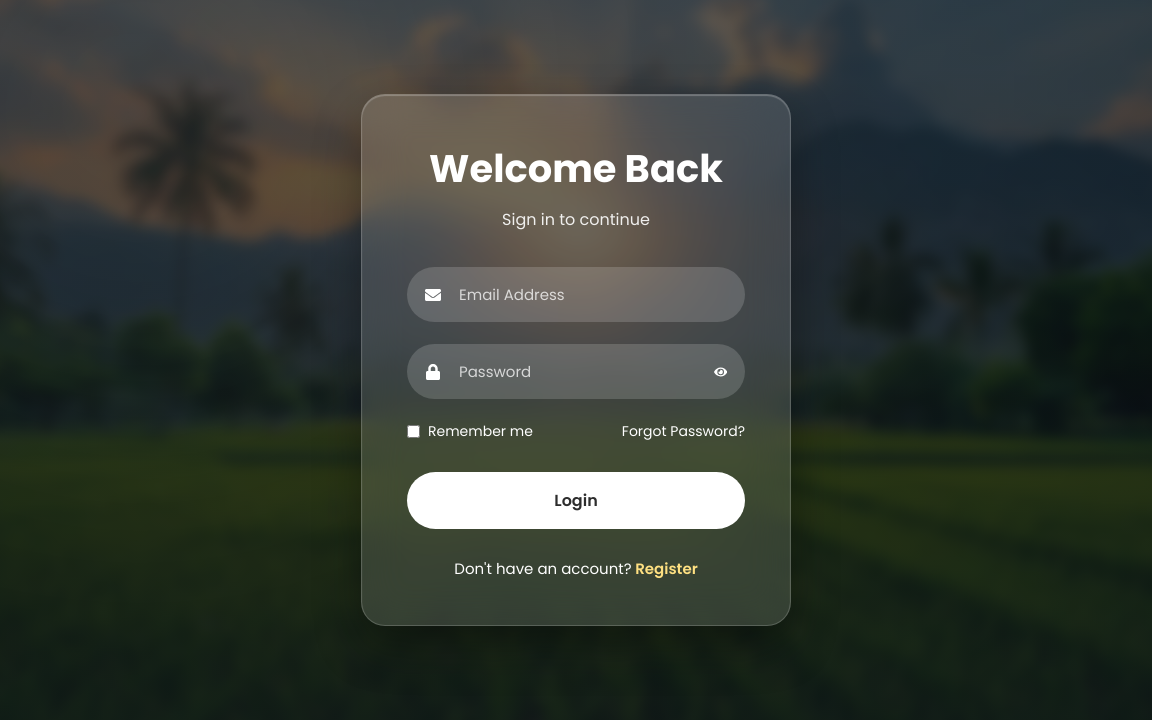
Test case: Login Component › shows loading state after clicking login
Type "test@gmail.com" into the field with placeholder "Email Address".
click(576, 294); type("test@gmail.com")  # box [407,267,745,322]
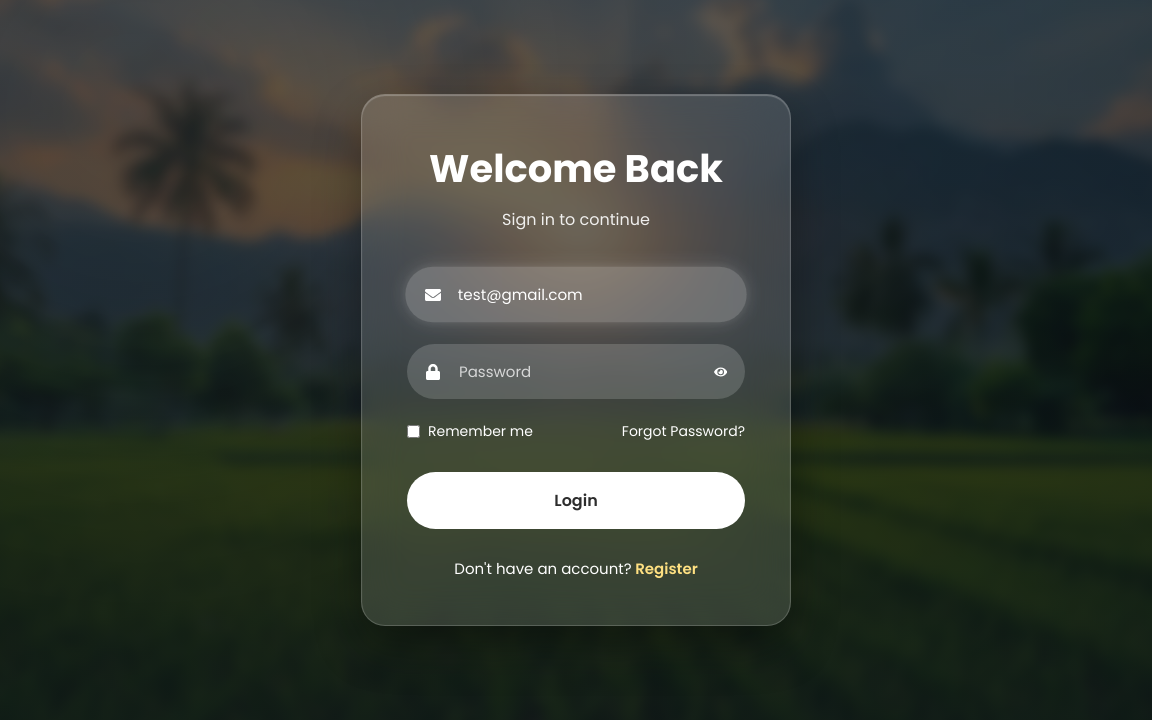
Type "123456" into the password field with placeholder "Password".
click(576, 372); type("123456")  # box [407,344,745,399]
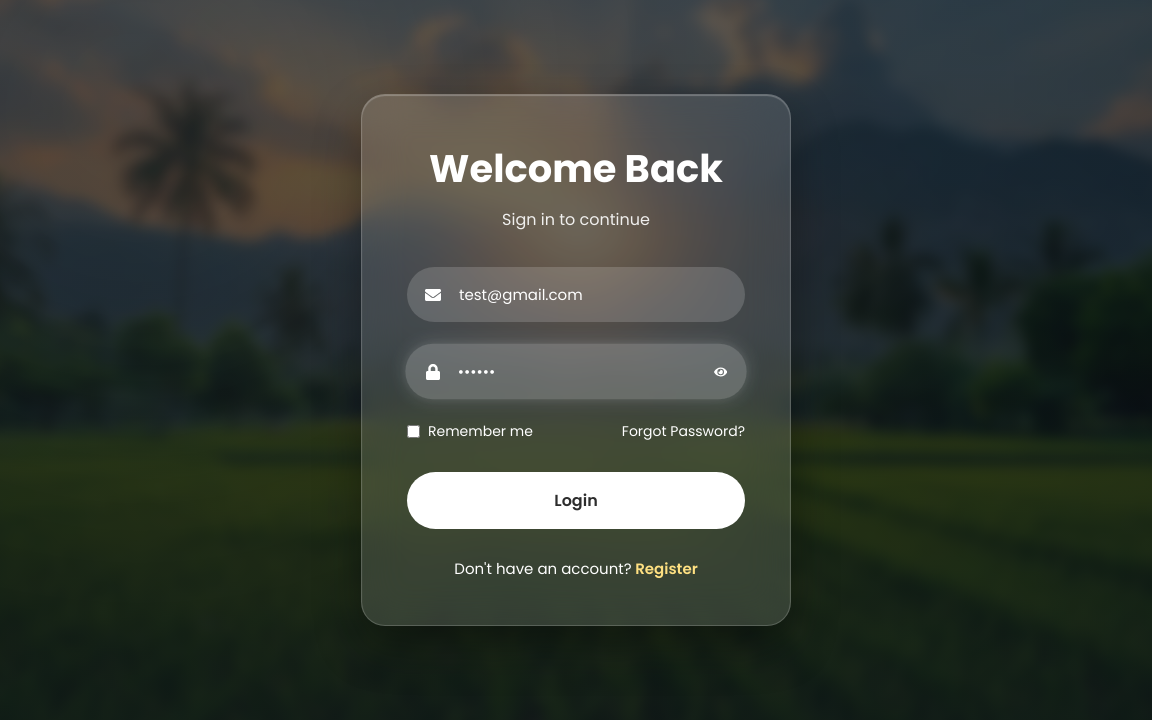
Click the button "Login".
click(576, 500)  # box [407,472,745,529]
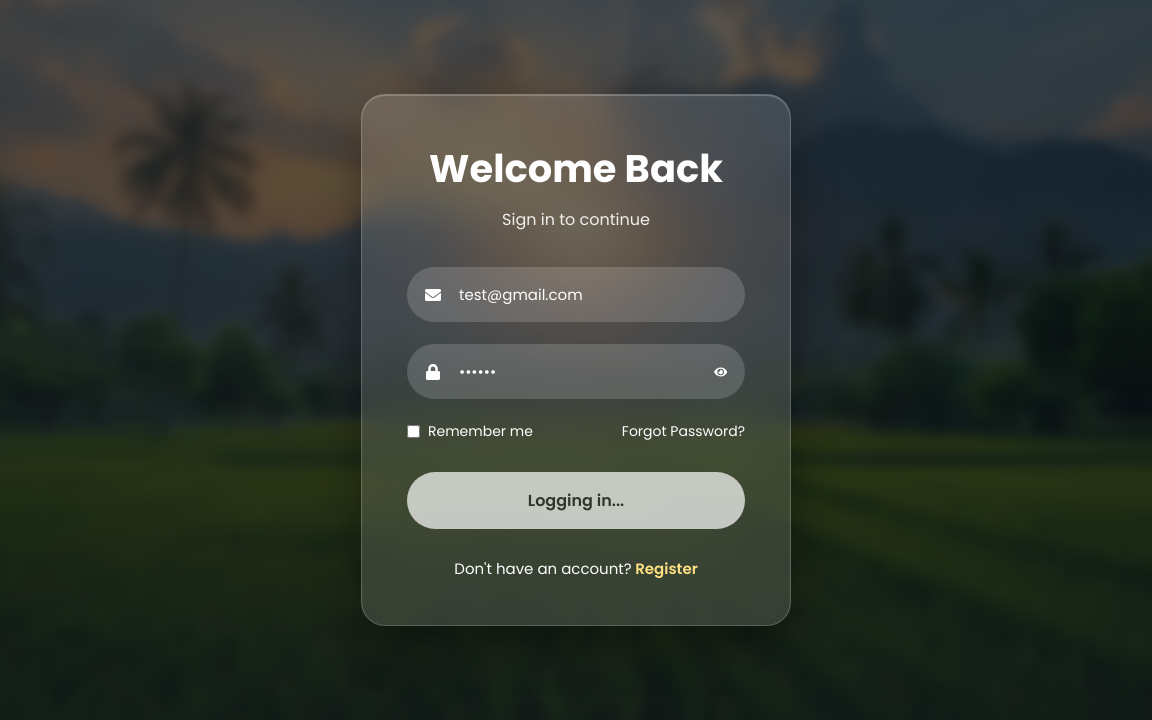
Expected: the button "Logging in..." is disabled, [407,472,745,529]
Expected: the button "Logging in..." is shown, [407,472,745,529]
